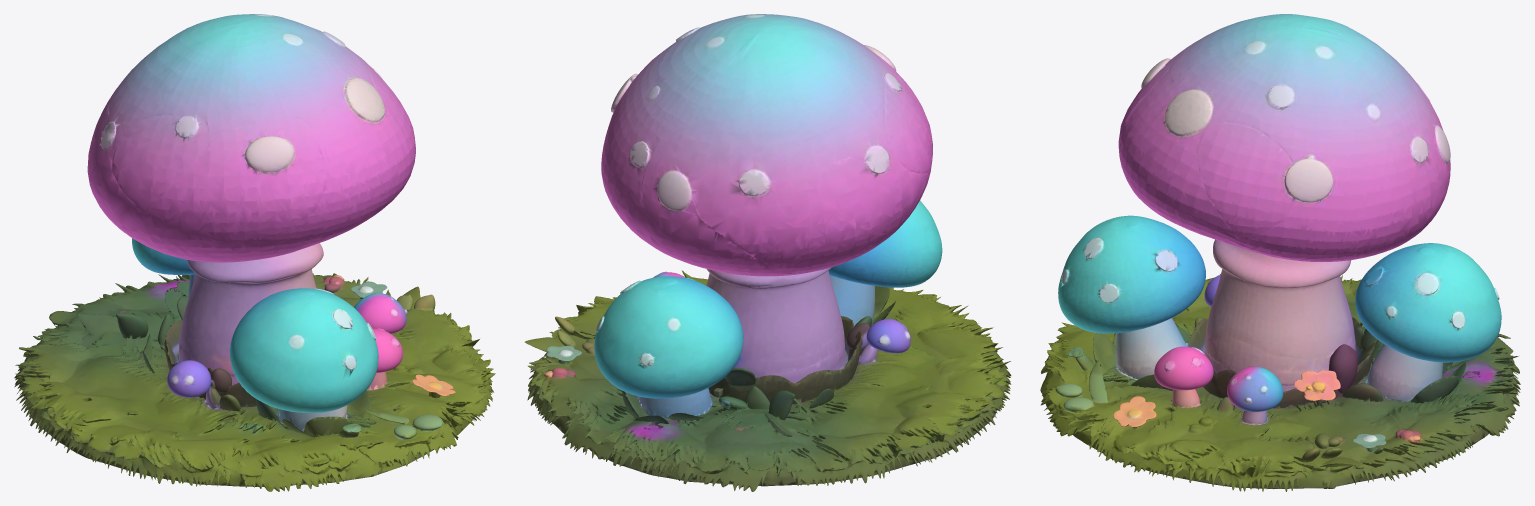
File: prop_mushroom.glb
The picture shows the model from 3 angles, left to right: view 1: azimuth 30°, elevation 25°; view 2: azimuth 150°, elevation 25°; view 3: azimuth 270°, elevation 25°; orthographic projection.
Visible parts, largest first — view 1: tripo_node_ee0673bd-958a-45e2-8fd4-4cfcdfd100a2; view 2: tripo_node_ee0673bd-958a-45e2-8fd4-4cfcdfd100a2; view 3: tripo_node_ee0673bd-958a-45e2-8fd4-4cfcdfd100a2.
Part boxes in pixels (<box>): tripo_node_ee0673bd-958a-45e2-8fd4-4cfcdfd100a2: <box>14,14,495,491</box>; tripo_node_ee0673bd-958a-45e2-8fd4-4cfcdfd100a2: <box>524,14,1011,491</box>; tripo_node_ee0673bd-958a-45e2-8fd4-4cfcdfd100a2: <box>1040,14,1520,491</box>.
Size of the model in its own units: 0.9815 by 0.8309 by 0.9789.
1 material, 1 textured.
